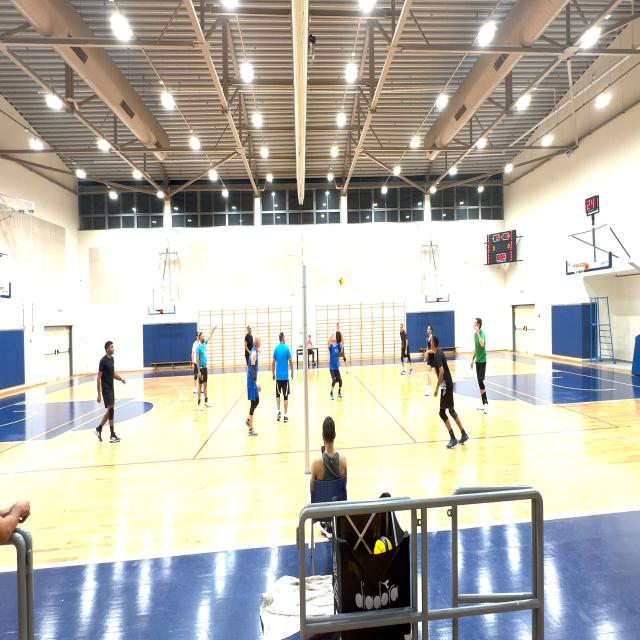volleyball: (373, 536, 392, 555), (339, 276, 344, 284)
